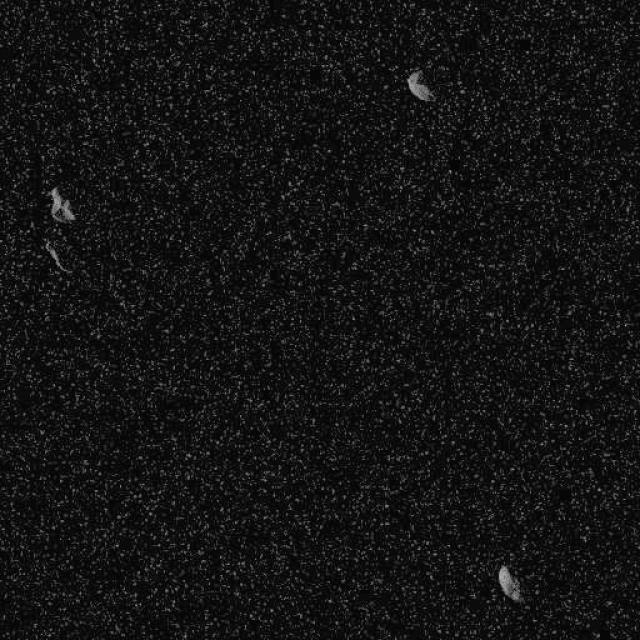D2: (48, 185, 76, 224), (405, 68, 435, 102), (497, 564, 522, 602), (41, 238, 65, 272)
